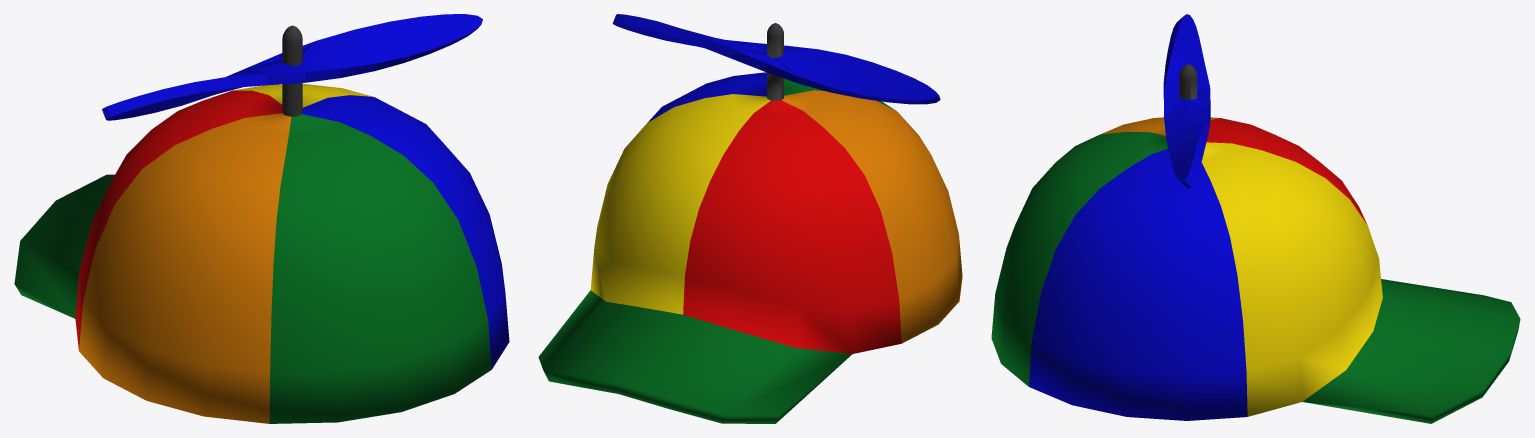
The model's file is spinnyCap.fbx.
3 renders of one model, left to right at view 1: azimuth 30°, elevation 25°; view 2: azimuth 150°, elevation 25°; view 3: azimuth 270°, elevation 25°, orthographic. The views are drawn at different scales.
Parts seen in each view (by area): view 1: Pinwheel1.001; view 2: Pinwheel1.001; view 3: Pinwheel1.001.
Part boxes in pixels (box(x1,y1,x2,y2)): Pinwheel1.001: box(14, 14, 509, 423); Pinwheel1.001: box(538, 14, 962, 423); Pinwheel1.001: box(991, 14, 1520, 423).
Bounding box in the file's own units: 20 × 16.93 × 27.03.
